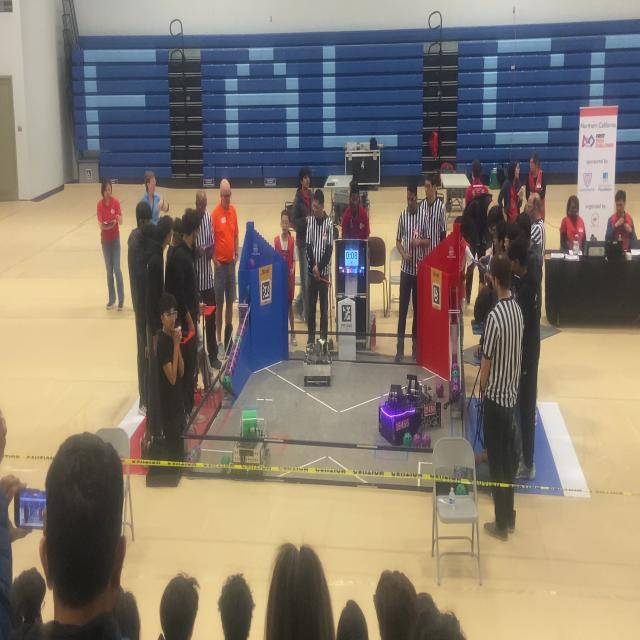artifact_green: (403, 432, 413, 447), (454, 466, 465, 479), (450, 379, 460, 393), (456, 483, 466, 495), (413, 433, 421, 447), (221, 454, 230, 466), (223, 376, 230, 390), (190, 447, 197, 460), (248, 258, 255, 269), (246, 285, 250, 302), (236, 336, 242, 346), (195, 443, 201, 453), (452, 371, 459, 379), (452, 363, 459, 370)
artifact_purple: (403, 432, 412, 447), (422, 433, 431, 448), (223, 371, 230, 390), (436, 383, 444, 398), (413, 433, 421, 447), (245, 285, 251, 303), (226, 366, 234, 379), (450, 390, 459, 401), (455, 467, 463, 479), (450, 379, 459, 389), (451, 391, 459, 402), (227, 354, 233, 368), (230, 344, 236, 358), (186, 453, 194, 463), (241, 325, 247, 338), (233, 350, 239, 363), (230, 362, 236, 375), (234, 344, 240, 357), (248, 258, 255, 269), (228, 352, 233, 367), (452, 386, 460, 395), (239, 325, 245, 337), (229, 352, 235, 364), (228, 361, 235, 371), (190, 447, 196, 458), (195, 443, 201, 454), (451, 379, 459, 387), (451, 371, 459, 379), (236, 336, 241, 346), (452, 363, 459, 370), (233, 356, 237, 368)
